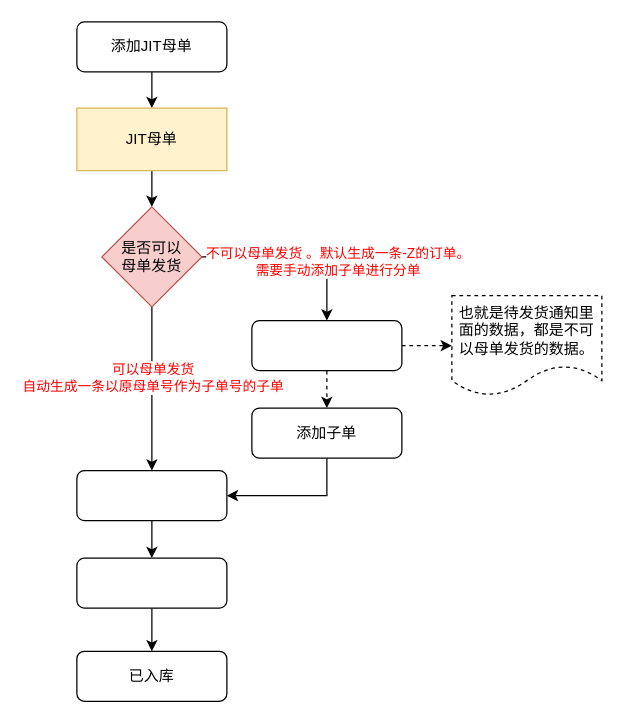
This 624x724 diagram has some shape labels left out. Each missing label, with the centre of its shape:
已发货: point (151, 582)
待发货: point (151, 495)
待发货通知: point (326, 345)
